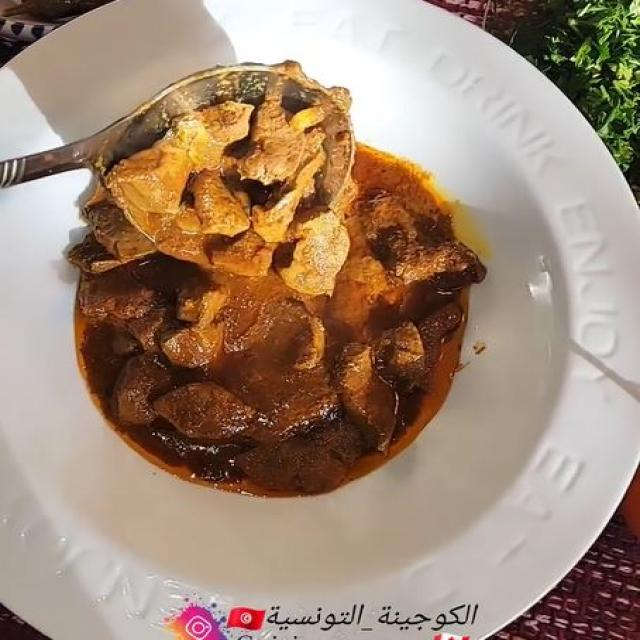kamouniya: (25, 52, 575, 520)
